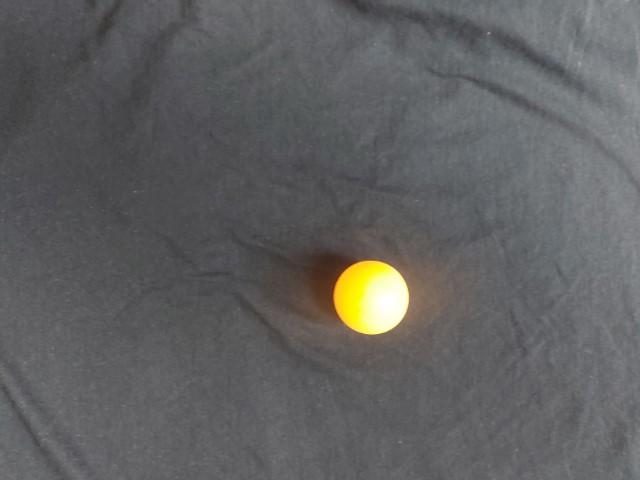oball: (224, 141, 312, 226)
